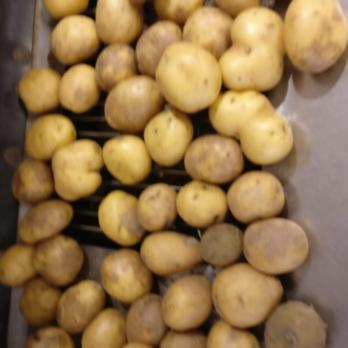Floury potato: (13, 59, 289, 348), (41, 2, 348, 78), (289, 223, 321, 348)
